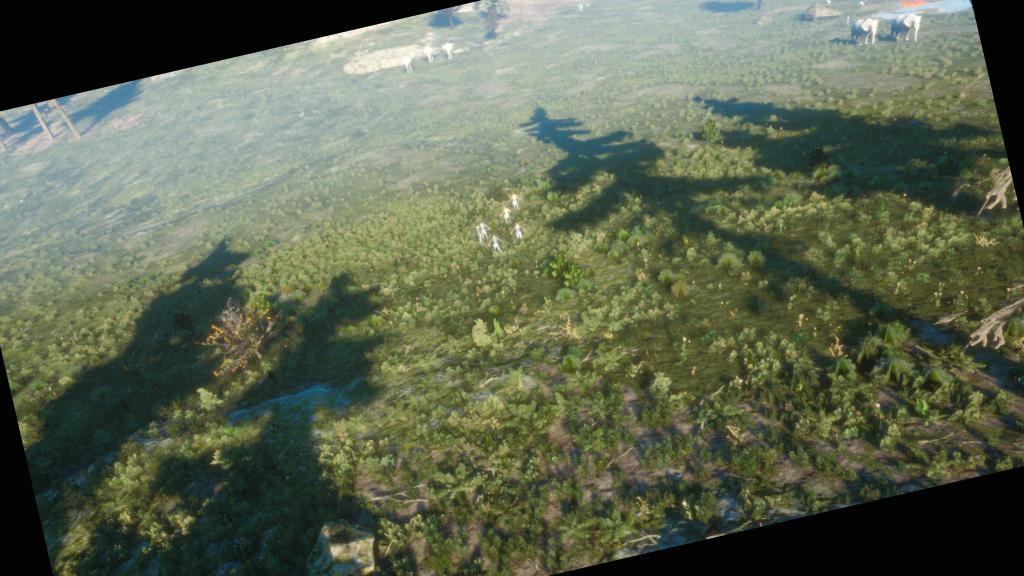elephant: (877, 0, 935, 53), (842, 2, 892, 58), (394, 39, 424, 90), (436, 31, 468, 71), (415, 36, 441, 74)
human: (452, 159, 560, 269)
